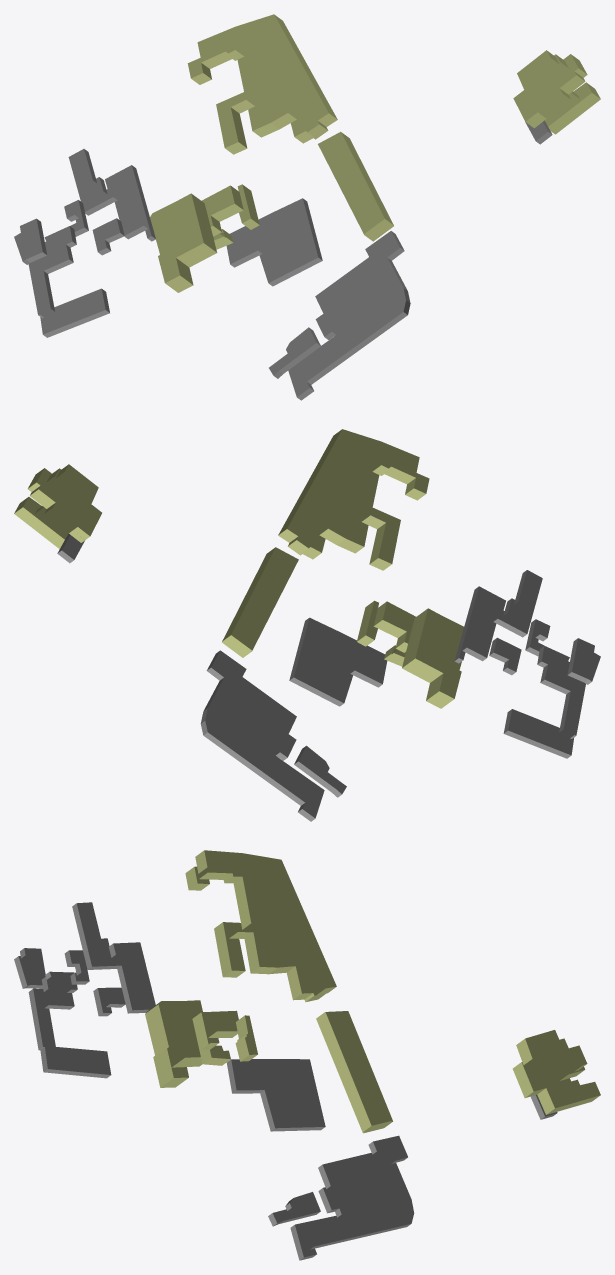
3 views of the same model, one above another, from view 1: azimuth 30°, elevation 25°; view 2: azimuth 150°, elevation 25°; view 3: azimuth 330°, elevation 25° (orthographic).
Visible parts, largest first — view 1: 0_1_0_2_0_0_2; view 2: 0_1_0_2_0_0_2; view 3: 0_1_0_2_0_0_2.
Boxes of the visible parts, x1,y1,x2,y2 form: 0_1_0_2_0_0_2: (14, 14, 600, 400); 0_1_0_2_0_0_2: (14, 429, 600, 821); 0_1_0_2_0_0_2: (14, 850, 600, 1260).
Bounding box in the file's own units: 223 × 143 × 9.
